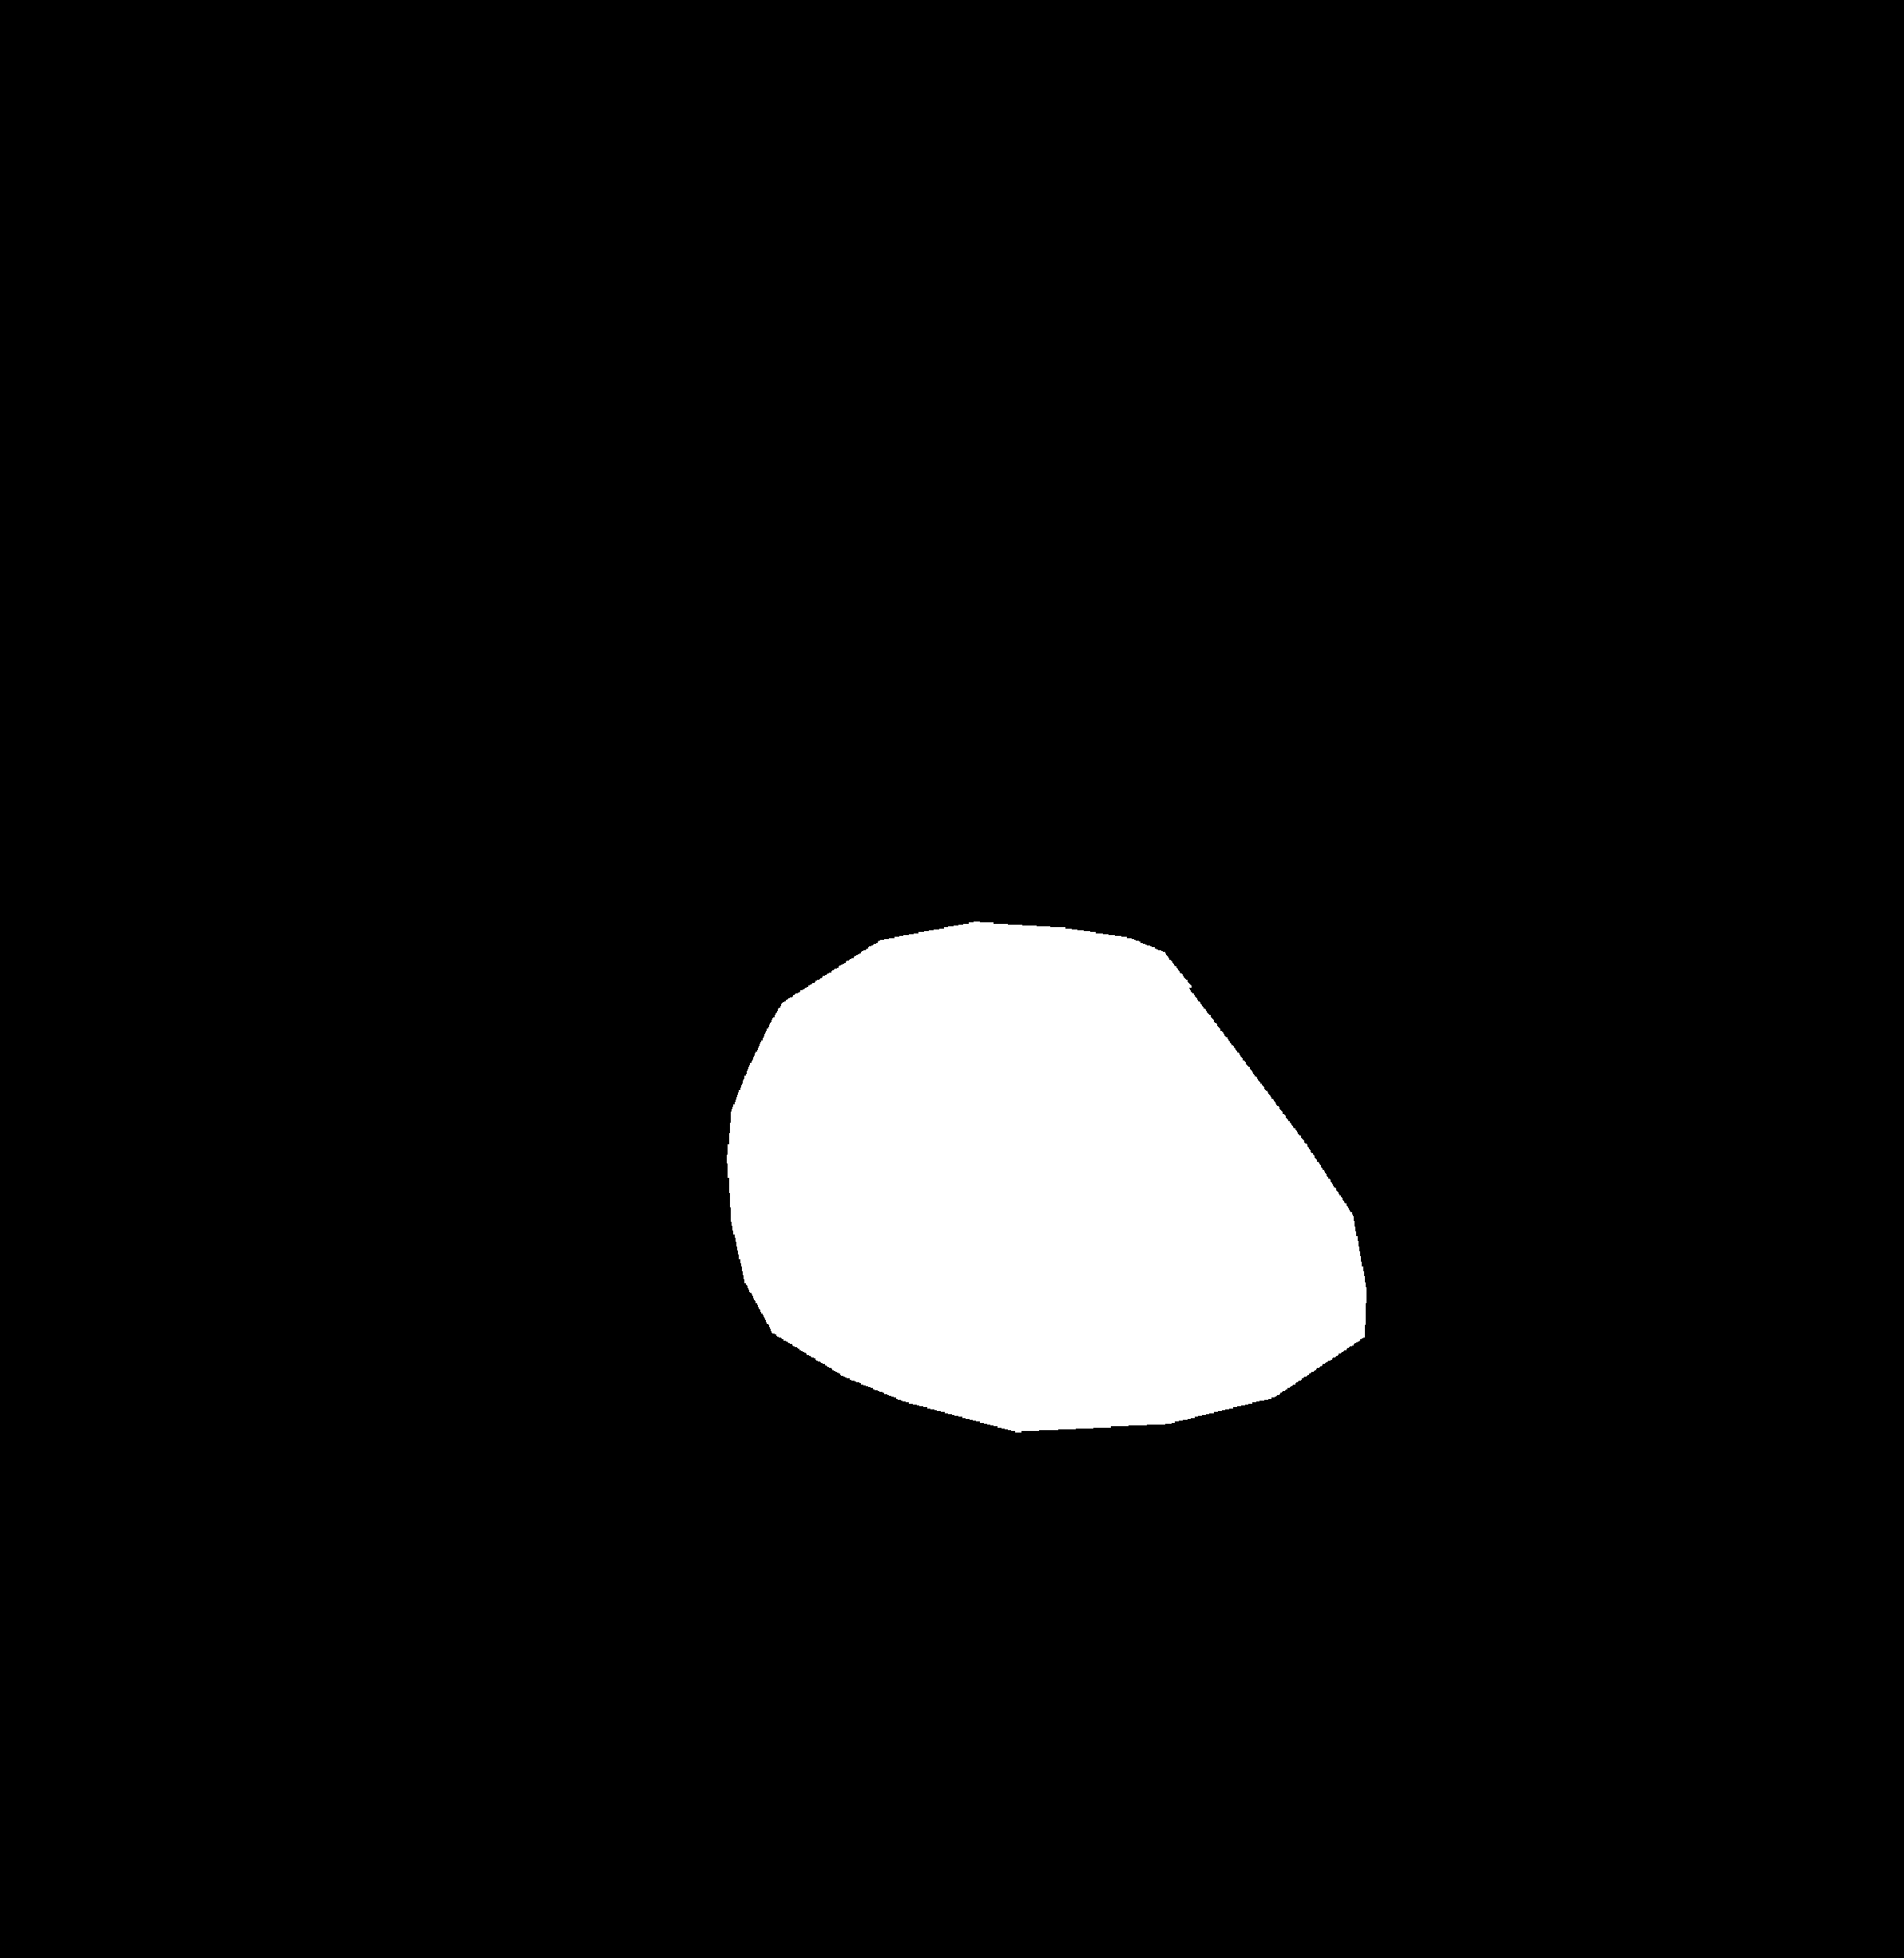heart: (731, 981, 1360, 1505)
left_lung: (213, 281, 839, 1544)
right_lung: (1014, 259, 1640, 1397)
